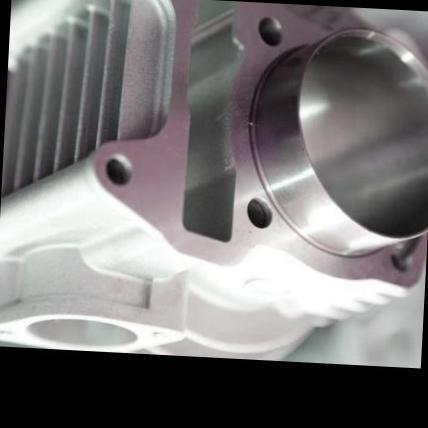hole: (243, 195, 274, 232), (102, 152, 133, 188), (256, 11, 283, 50)
